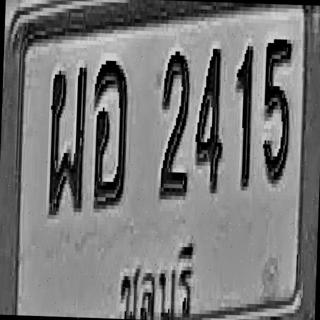A28: (47, 65, 87, 214)
A43: (89, 58, 129, 208)
N01: (232, 41, 254, 190)
N02: (159, 49, 191, 198)
N04: (193, 44, 225, 193)
N05: (260, 35, 292, 184)
P13: (116, 236, 204, 320)
